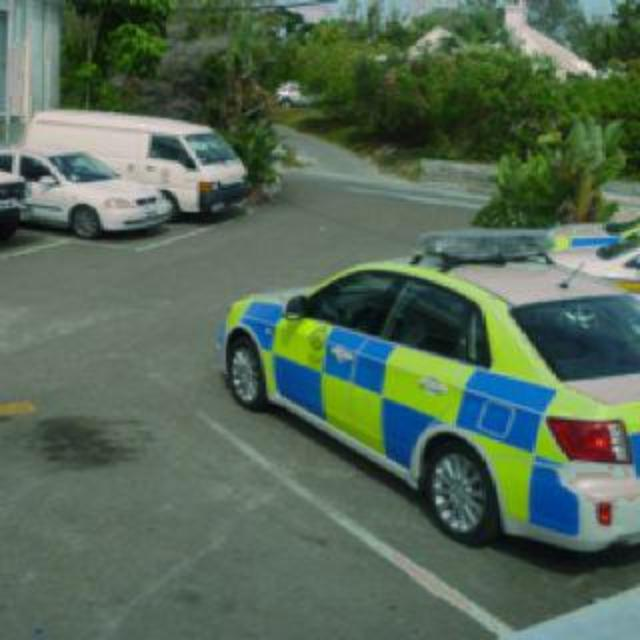police_car: (220, 230, 640, 554)
